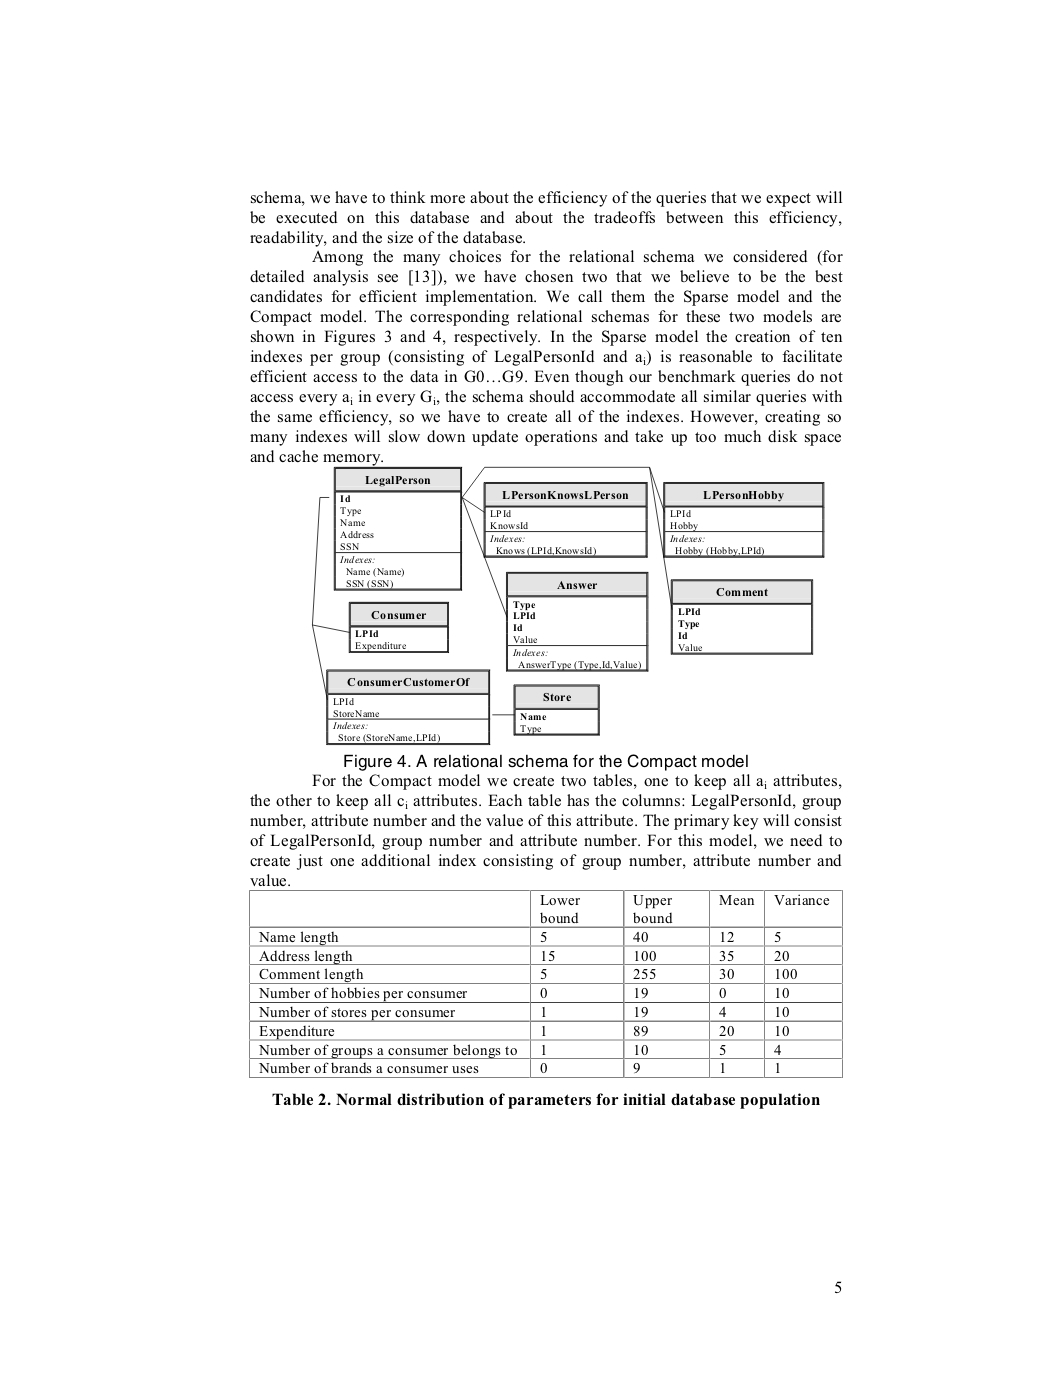Table: (249, 889, 841, 1078)
figure: (312, 464, 824, 744)
